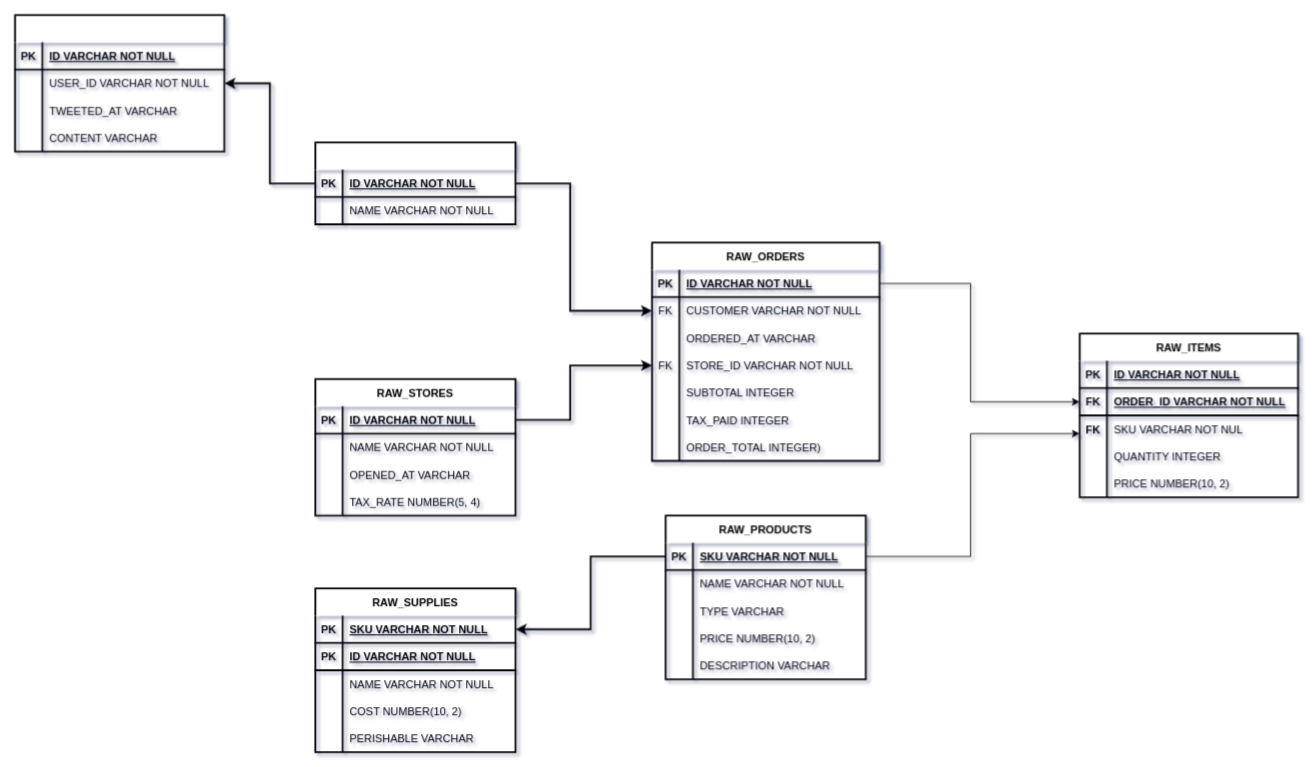
Some shapes in this 1313 by 767 pixel diagram are drawn without their labels. Here are the shapes that lost their labels. From the top down, the box of each, then its label:
(14, 14, 225, 152): RAW_TWEETS
(314, 141, 516, 225): RAW_CUSTOMERS
